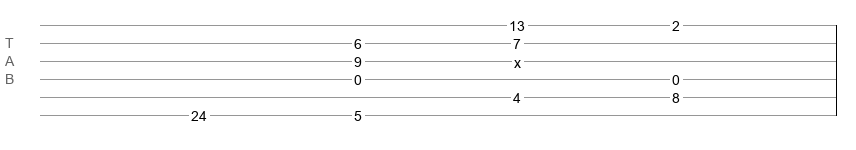0: (354, 72, 362, 82), (672, 72, 680, 82)
13: (509, 18, 525, 28)
2: (672, 18, 680, 28)
24: (191, 108, 207, 118)
4: (513, 90, 521, 100)
5: (354, 108, 362, 118)
6: (354, 36, 362, 46)
7: (513, 36, 521, 46)
8: (672, 90, 680, 100)
9: (354, 54, 362, 64)
x: (514, 55, 521, 63)
